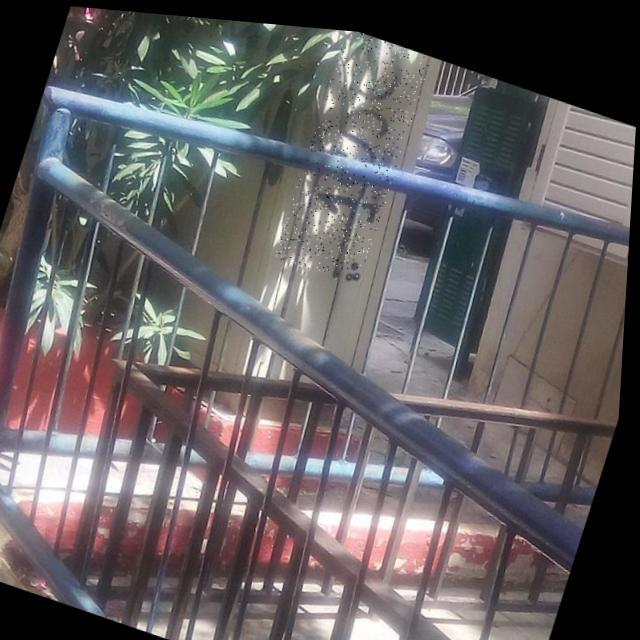-: (275, 20, 432, 283)
